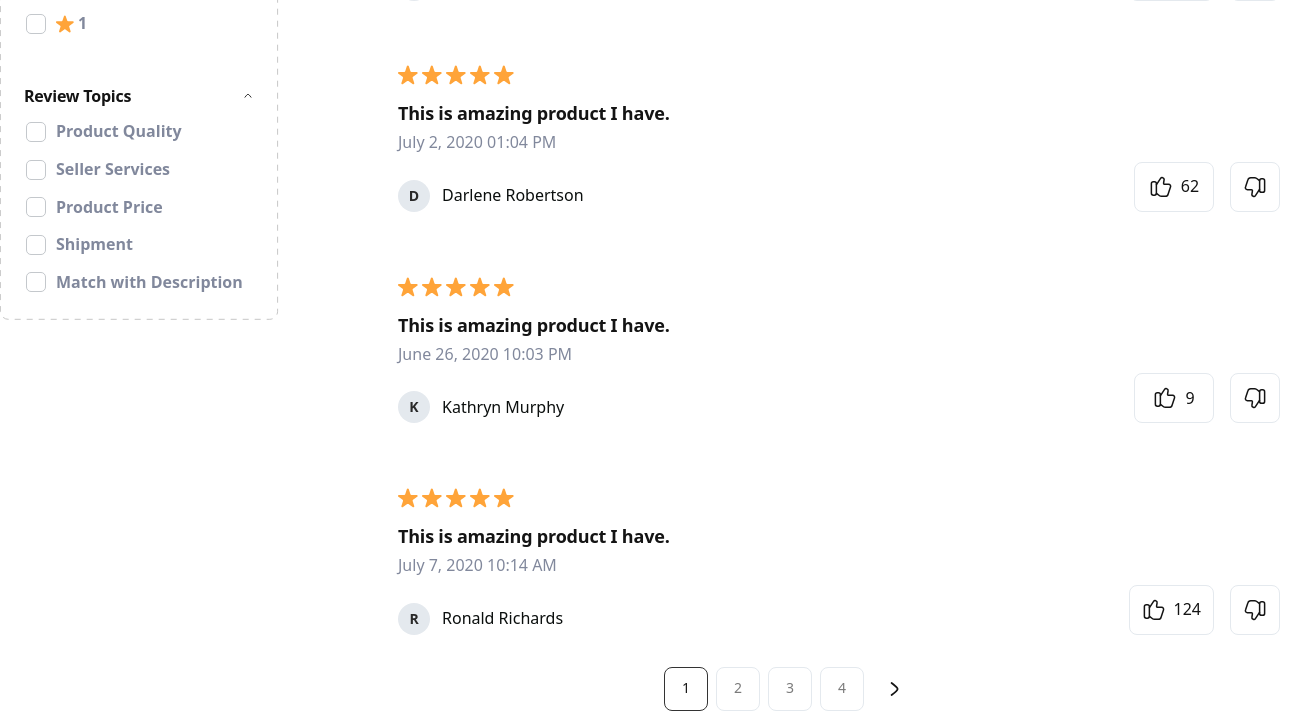
Scenario: ProductReviews › changes page
(page scrolled)
Click the button named "Page 2".
click(738, 689)  # box [716,667,760,710]
(page scrolled)
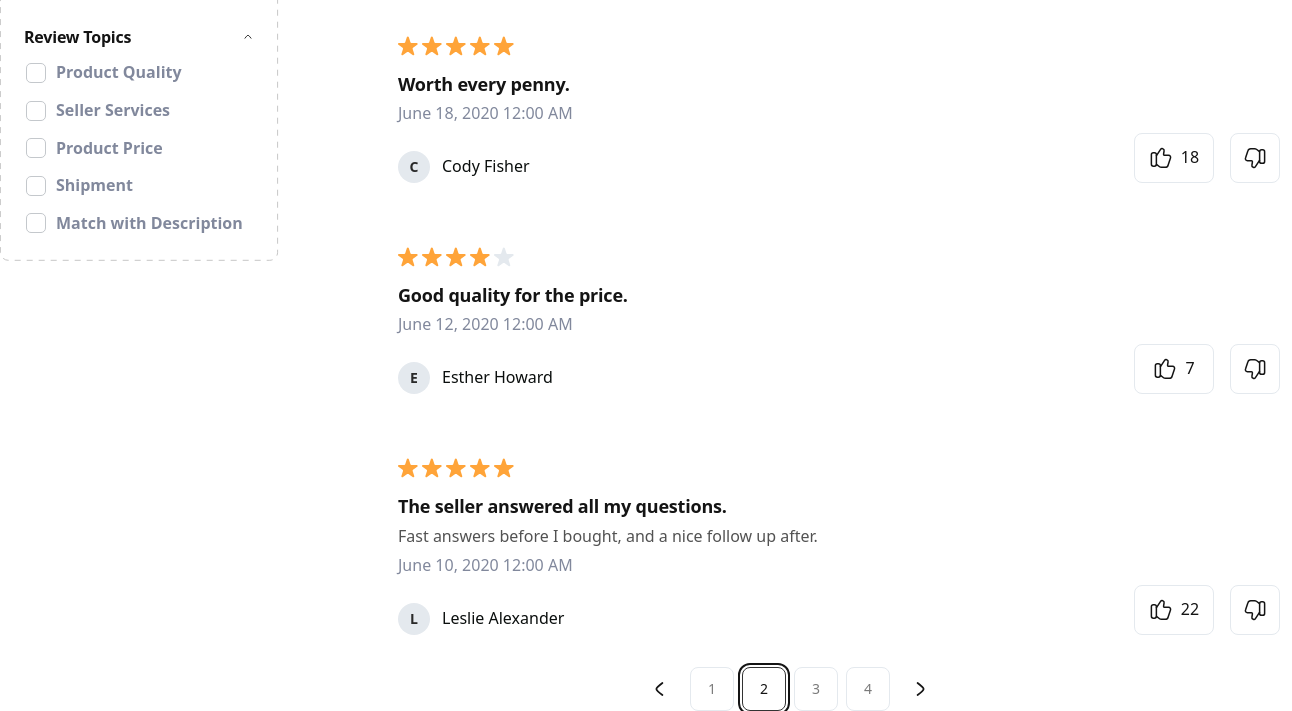
Expected: the button named "Previous page" is shown, [638,667,682,710]
